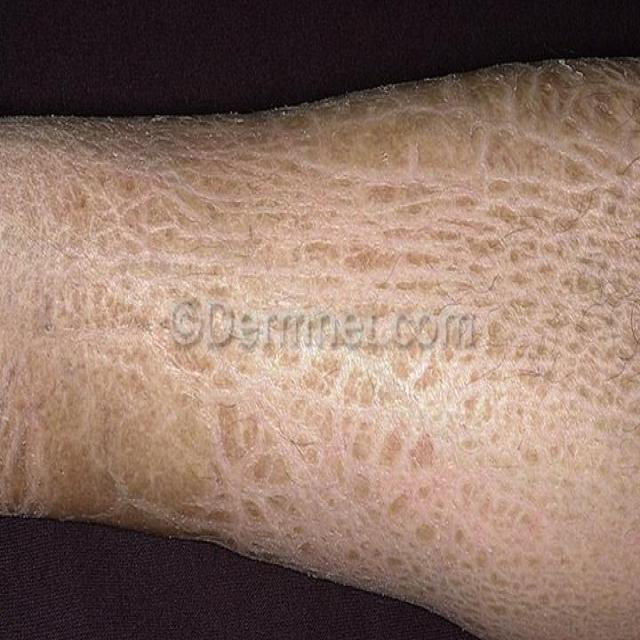liquenificacion 1: (0, 53, 639, 639)
liquenificacion 2: (0, 53, 639, 639)
